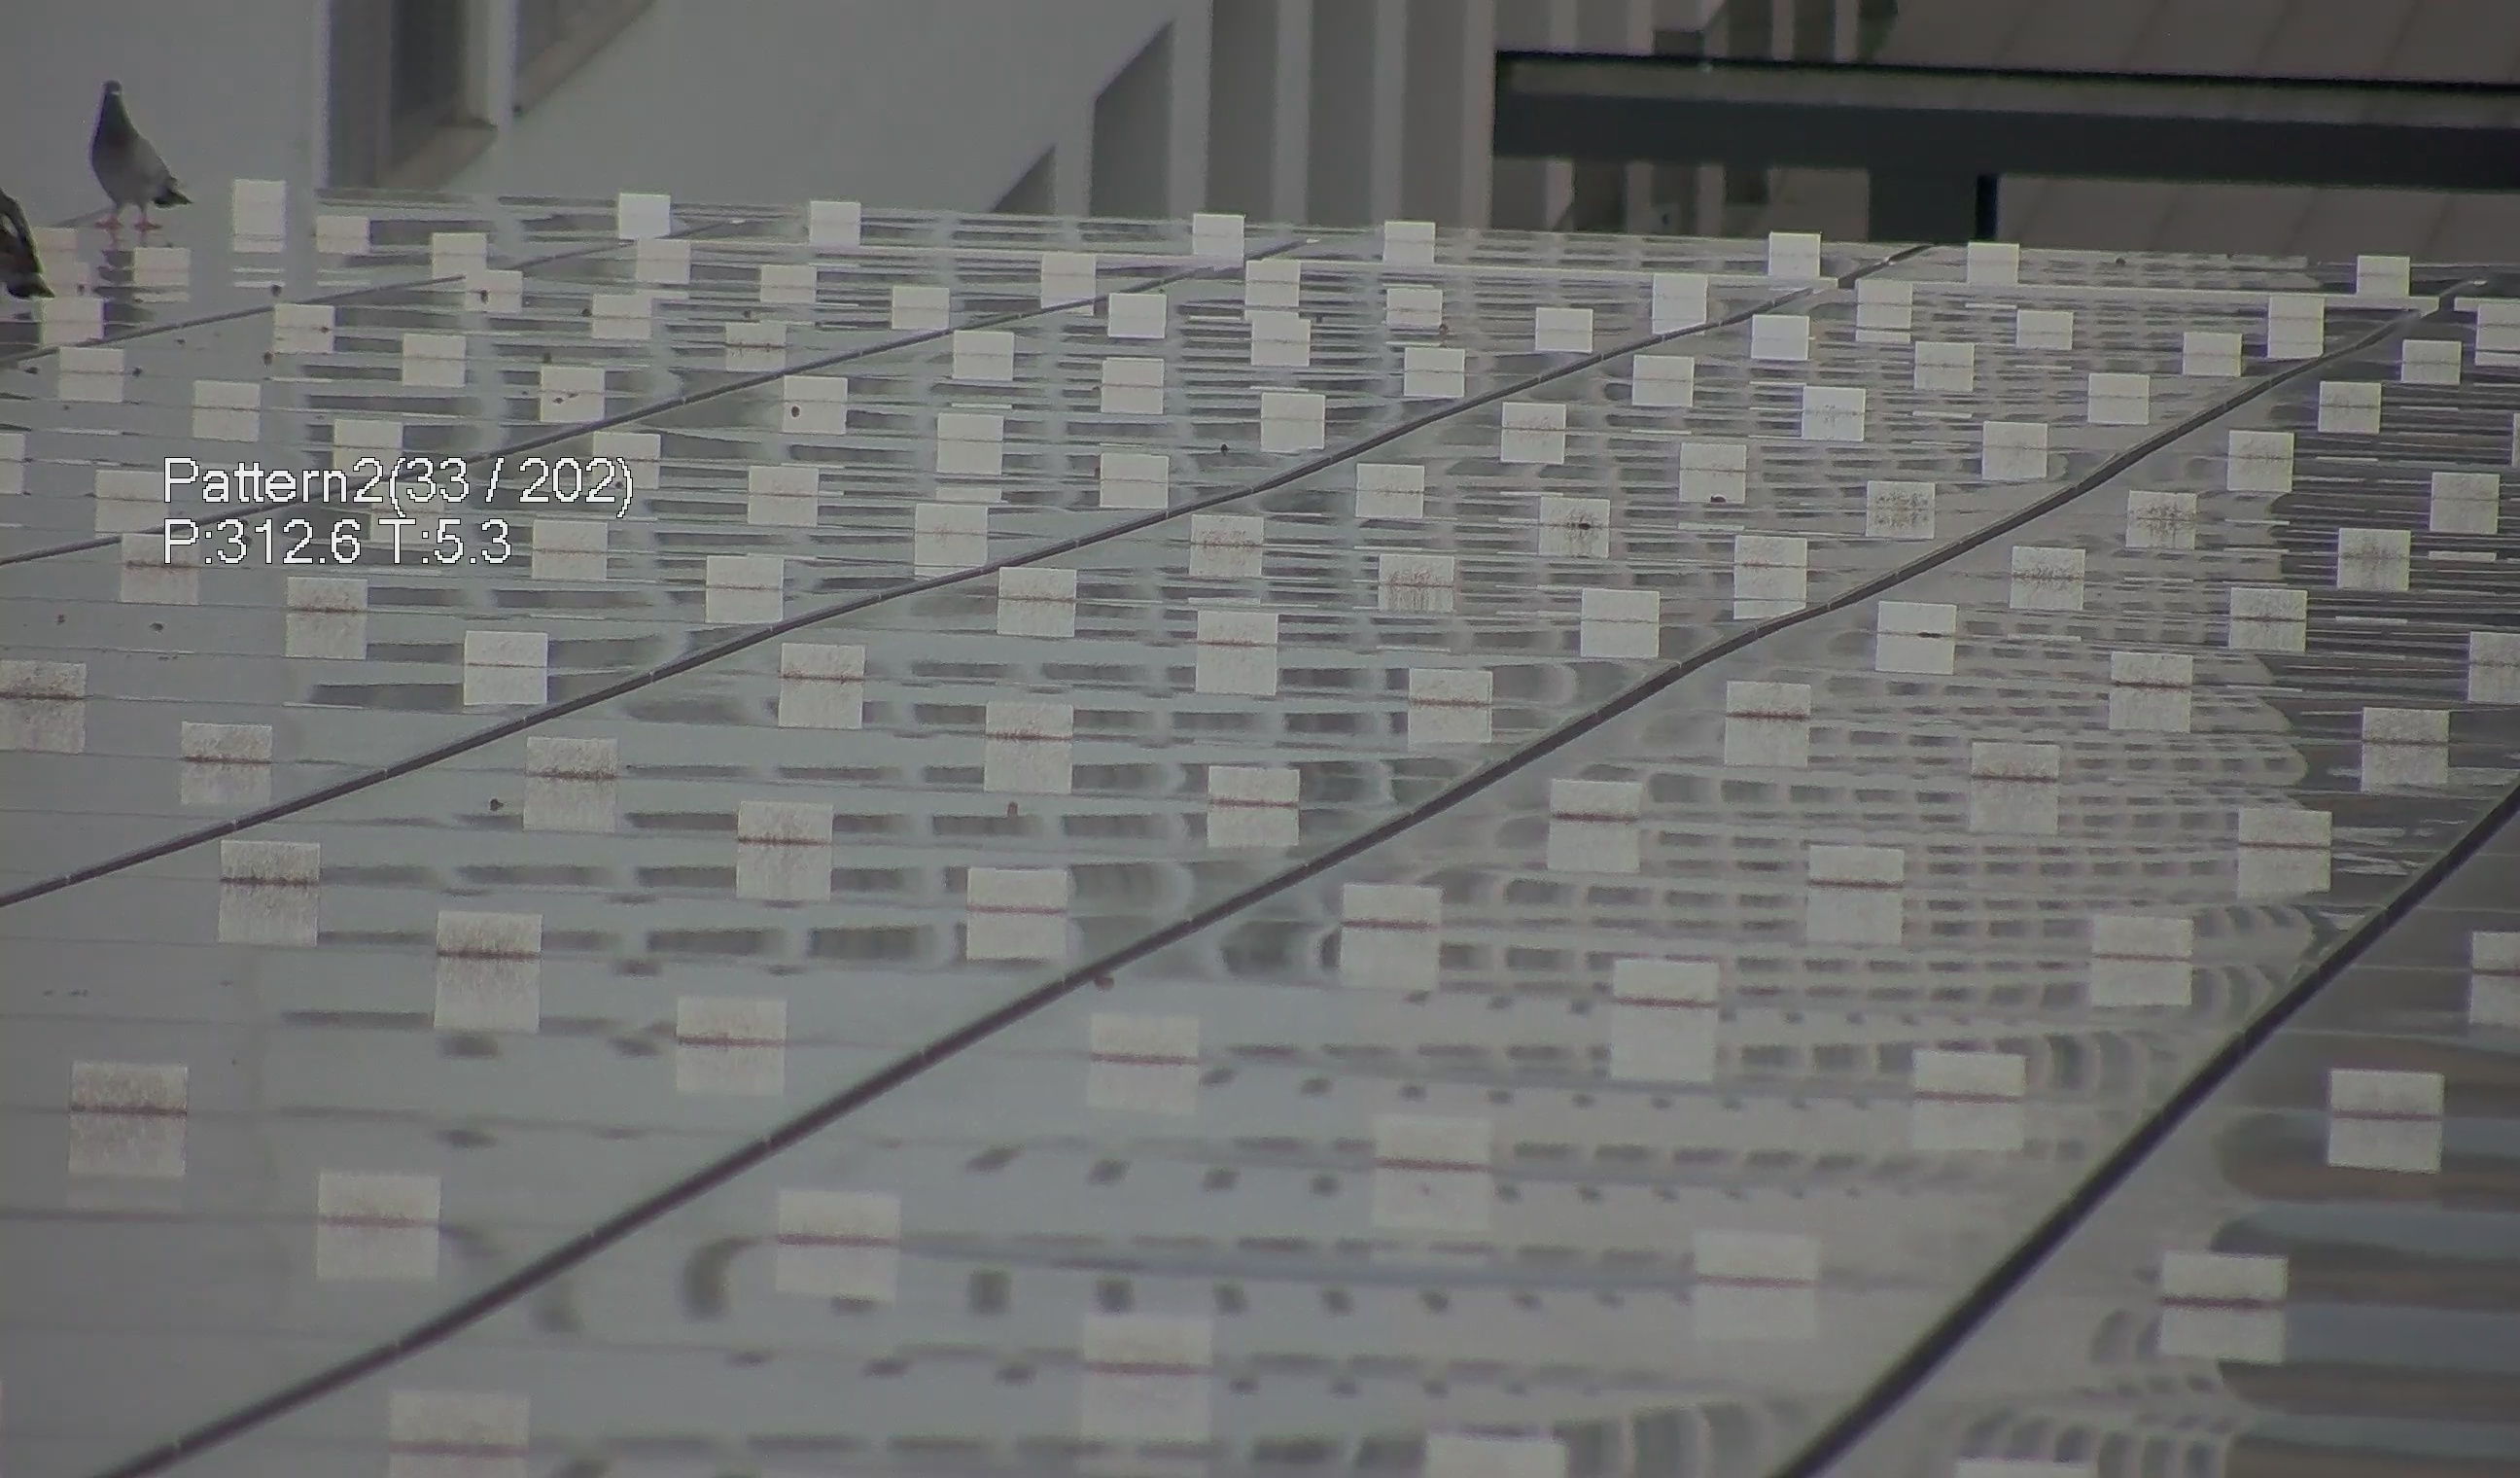Pigeon: (70, 63, 195, 241)
